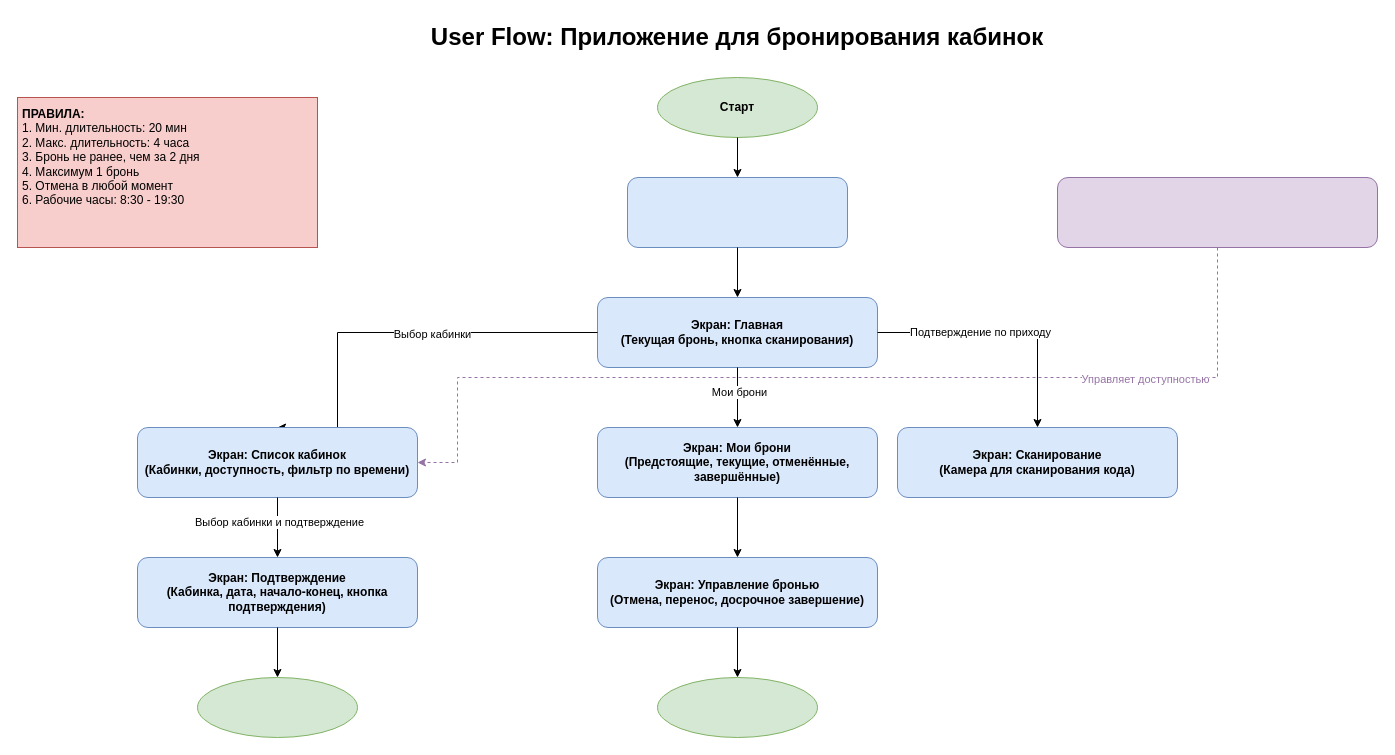
The diagram is 1395 pixels wide and 755 high, and some of its shapes have lost their labels. Each missing label, with the box of its shape:
Бронь создана: (196, 676, 358, 738)
Статус обновлен: (656, 676, 818, 738)
Экран: Администрирование (Кабинки, расписание, ограничение брони и блокировки): (1056, 176, 1378, 248)
Экран: Вход (Вход в аккаунт по номеру): (626, 176, 848, 248)
